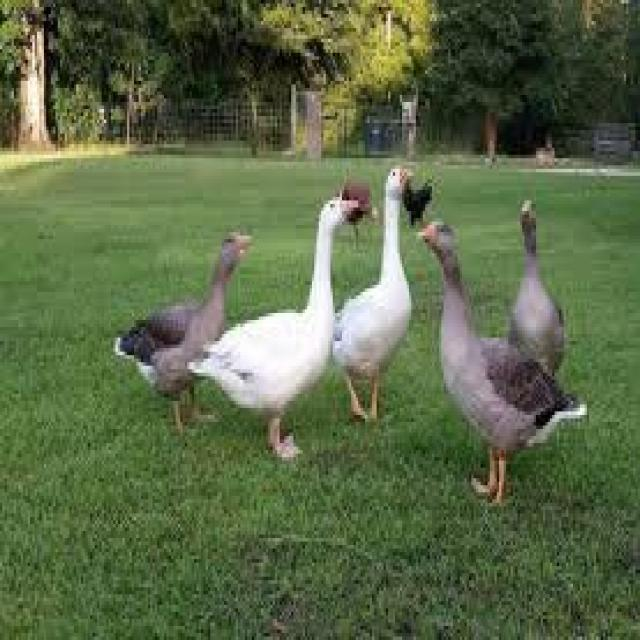Goose: (417, 218, 586, 507), (201, 192, 359, 457), (116, 229, 253, 433), (329, 157, 412, 429), (501, 198, 568, 372)
